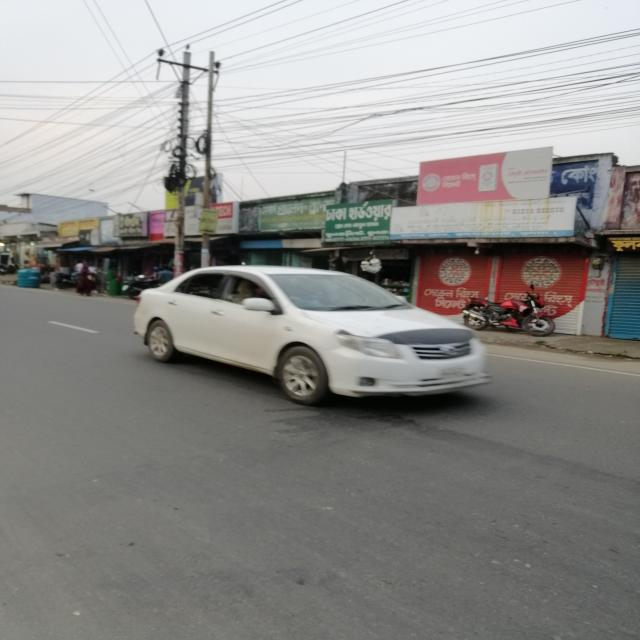Car: (118, 264, 498, 411)
Motorbike: (459, 284, 562, 339)
